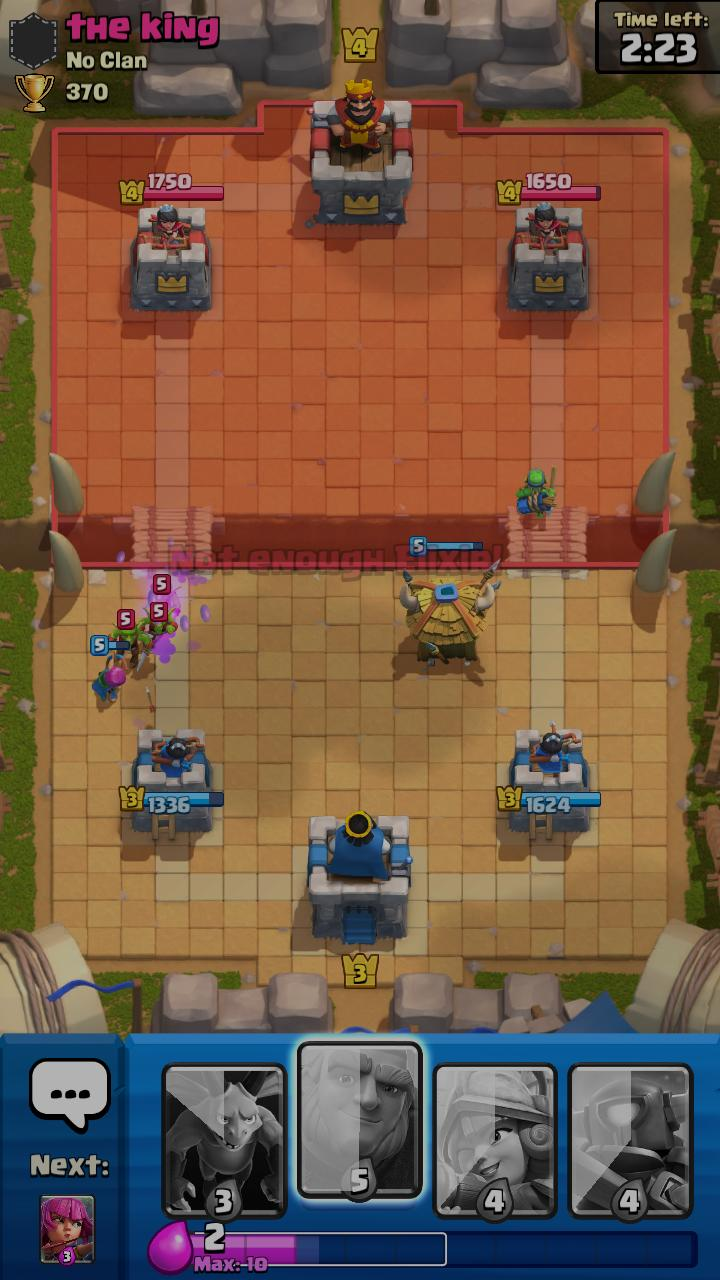ally: (399, 536, 502, 667), (90, 634, 130, 703), (515, 465, 557, 518)
enemy: (106, 609, 154, 672), (138, 602, 178, 648), (150, 574, 181, 620)
